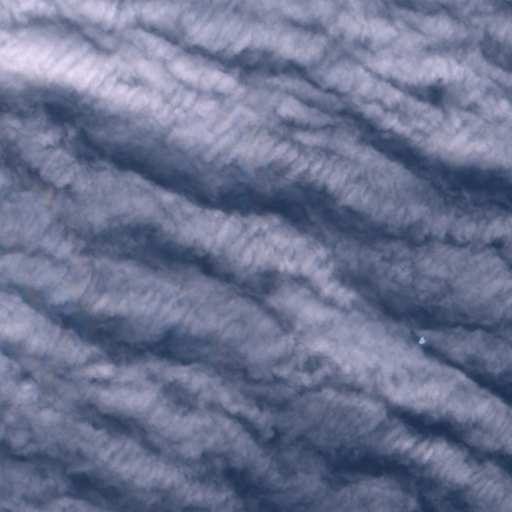Iceberg: (419, 337, 425, 343)
